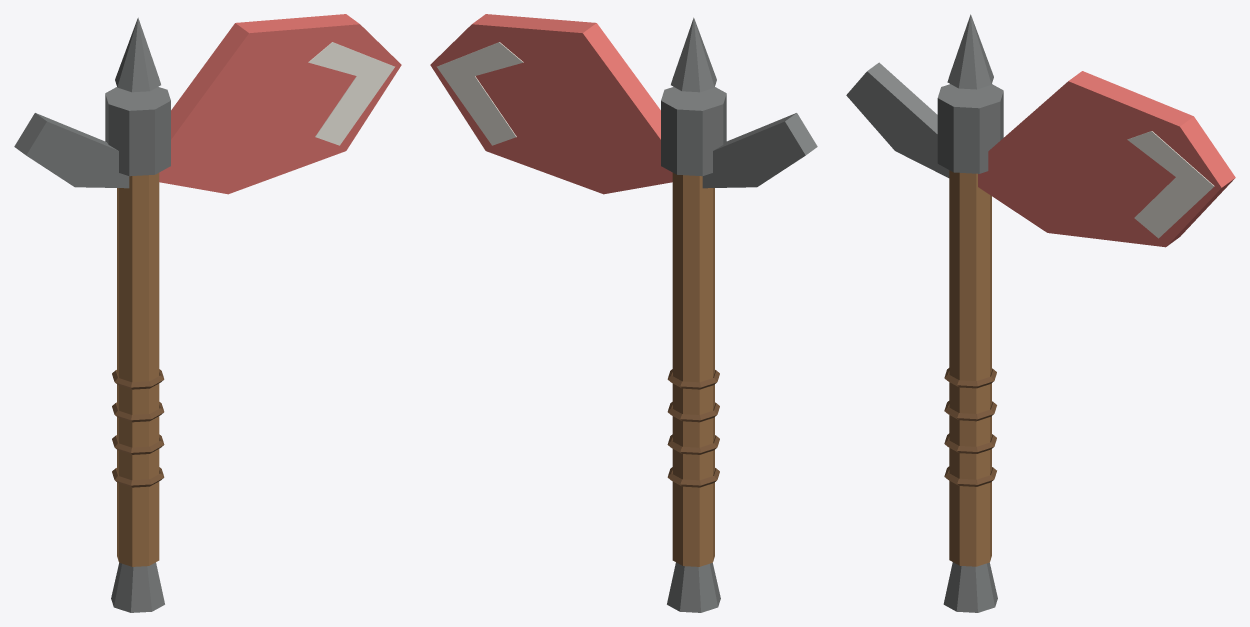
Rendered from t5_axe.glb.
3 views of the same model, side by side, from view 1: azimuth 30°, elevation 25°; view 2: azimuth 150°, elevation 25°; view 3: azimuth 330°, elevation 25° (orthographic).
Visible parts, largest first — view 1: RightBlade, WoodHandle, TopSocket, BackSpike, RightBladeEdge, BottomPommel, TopSpike; view 2: RightBlade, WoodHandle, TopSocket, BackSpike, RightBladeEdge, BottomPommel, TopSpike; view 3: RightBlade, WoodHandle, BackSpike, TopSocket, RightBladeEdge, BottomPommel, TopSpike.
Boxes of the visible parts, <box> form: RightBlade: <box>159,14,401,194</box>; WoodHandle: <box>117,173,159,566</box>; TopSocket: <box>105,87,170,176</box>; BackSpike: <box>14,113,129,188</box>; RightBladeEdge: <box>308,42,394,145</box>; BottomPommel: <box>111,562,164,612</box>; TopSpike: <box>115,17,160,92</box>; RightBlade: <box>430,14,672,194</box>; WoodHandle: <box>672,173,714,566</box>; TopSocket: <box>661,87,726,176</box>; BackSpike: <box>702,113,817,188</box>; RightBladeEdge: <box>437,42,523,145</box>; BottomPommel: <box>667,562,720,612</box>; TopSpike: <box>671,17,716,92</box>; RightBlade: <box>978,71,1235,247</box>; WoodHandle: <box>949,170,991,566</box>; BackSpike: <box>846,62,949,177</box>; TopSocket: <box>937,84,1003,173</box>; RightBladeEdge: <box>1127,131,1214,238</box>; BottomPommel: <box>943,562,997,612</box>; TopSpike: <box>947,14,993,89</box>.
Bounding box in the file's own units: 1.08 × 1.61 × 0.17.
